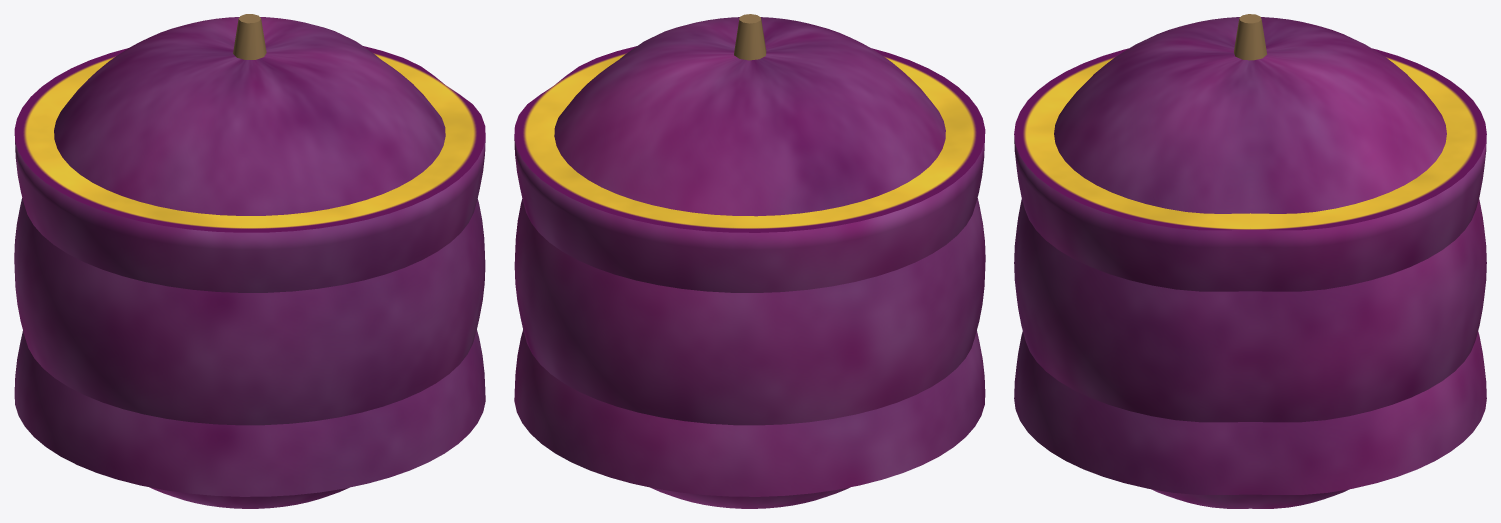
Rendered from plum.glb.
The picture shows the model from 3 angles, left to right: view 1: azimuth 30°, elevation 25°; view 2: azimuth 150°, elevation 25°; view 3: azimuth 270°, elevation 25°; orthographic projection.
Parts seen in each view (by area): view 1: whole, bot, top; view 2: whole, bot, top; view 3: whole, bot, top.
Part boxes in pixels (x1,y1,x2,y2): whole: (14,14,485,508); bot: (14,46,485,292); top: (14,330,485,496); whole: (514,14,985,508); bot: (514,46,985,292); top: (514,329,985,496); whole: (1014,14,1486,508); bot: (1014,48,1486,291); top: (1014,331,1486,494).
Size of the model in its own units: 0.4916 by 0.5398 by 0.5.
3 materials, 2 textured.
